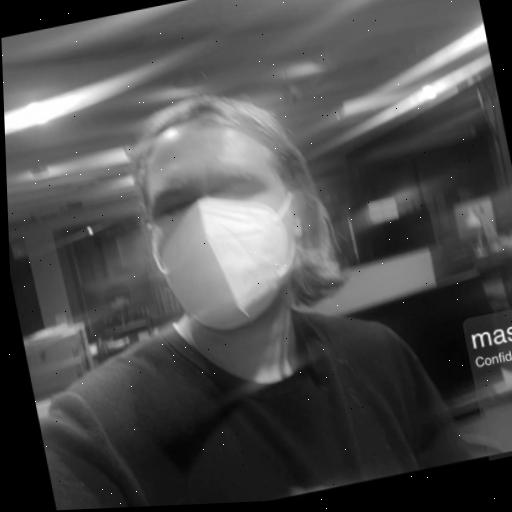mask: (107, 62, 360, 364)
